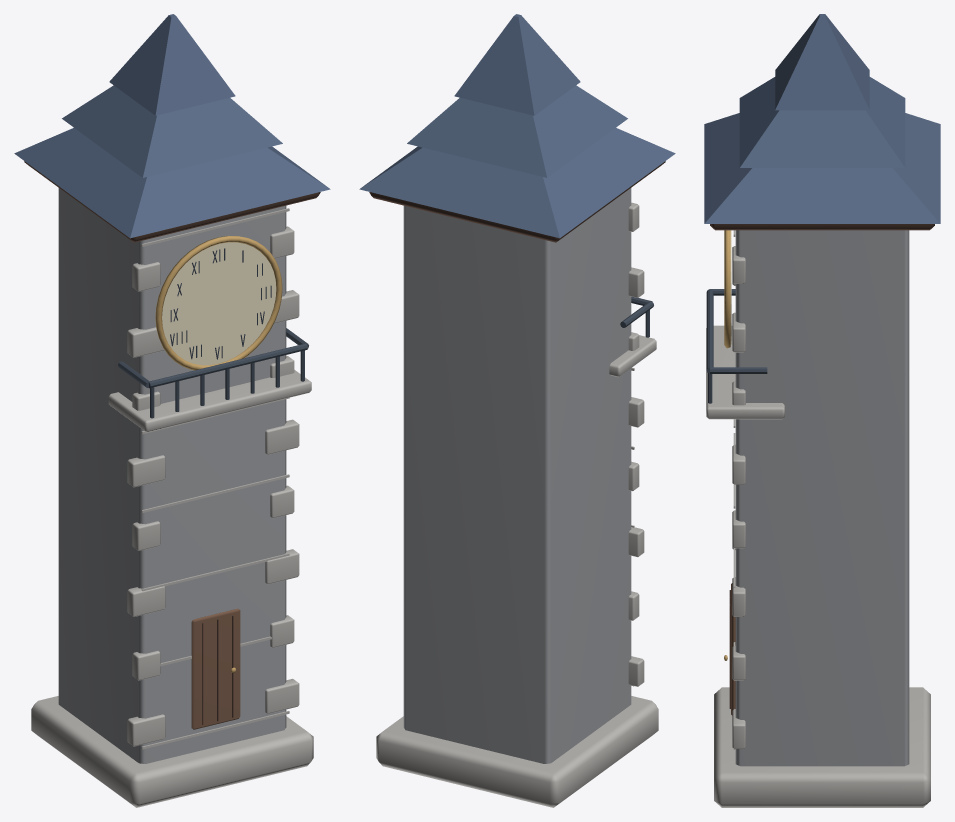
Rendered from clock_tower.glb.
3 renders of one model, left to right at view 1: azimuth 30°, elevation 25°; view 2: azimuth 150°, elevation 25°; view 3: azimuth 270°, elevation 25°, orthographic. The views are drawn at different scales.
Visible parts, largest first — view 1: Slender stone tower, Pointed slate roof tier, Stone footing, Pointed slate roof tier.001, Ivory clock dial, Pointed slate roof tier.002, Lower arched door, Balcony floor, Aged brass clock bezel, Slate roof cornice, Balcony front rail, Worn corner quoin.004 (+13 smaller); view 2: Slender stone tower, Pointed slate roof tier, Stone footing, Pointed slate roof tier.001, Pointed slate roof tier.002, Slate roof cornice, Balcony floor; view 3: Slender stone tower, Pointed slate roof tier, Stone footing, Pointed slate roof tier.001, Pointed slate roof tier.002, Balcony floor, Slate roof cornice, Aged brass clock bezel, Balcony front rail, Worn corner quoin.012, Worn corner quoin.014, Worn corner quoin.008 (+2 smaller).
Boxes of the visible parts, left/top/right/bottom form: Slender stone tower: left=58, top=188, right=286, bottom=763; Pointed slate roof tier: left=14, top=128, right=330, bottom=238; Stone footing: left=31, top=696, right=313, bottom=807; Pointed slate roof tier.001: left=62, top=85, right=282, bottom=177; Ivory clock dial: left=162, top=242, right=276, bottom=365; Pointed slate roof tier.002: left=109, top=14, right=235, bottom=115; Lower arched door: left=191, top=608, right=240, bottom=729; Balcony floor: left=108, top=370, right=311, bottom=432; Aged brass clock bezel: left=155, top=236, right=282, bottom=370; Slate roof cornice: left=24, top=161, right=320, bottom=242; Balcony front rail: left=149, top=343, right=307, bottom=388; Worn corner quoin.004: left=127, top=455, right=165, bottom=487; Slender stone tower: left=403, top=188, right=631, bottom=763; Pointed slate roof tier: left=359, top=128, right=675, bottom=238; Stone footing: left=376, top=696, right=658, bottom=807; Pointed slate roof tier.001: left=407, top=85, right=627, bottom=177; Pointed slate roof tier.002: left=454, top=14, right=580, bottom=115; Slate roof cornice: left=369, top=161, right=665, bottom=242; Balcony floor: left=609, top=335, right=656, bottom=377; Slender stone tower: left=735, top=230, right=909, bottom=766; Pointed slate roof tier: left=704, top=113, right=940, bottom=223; Stone footing: left=714, top=687, right=930, bottom=807; Pointed slate roof tier.001: left=739, top=77, right=905, bottom=167; Pointed slate roof tier.002: left=775, top=14, right=869, bottom=110; Balcony floor: left=706, top=325, right=784, bottom=419; Slate roof cornice: left=710, top=224, right=934, bottom=230; Aged brass clock bezel: left=724, top=230, right=730, bottom=348; Balcony front rail: left=706, top=289, right=713, bottom=373; Worn corner quoin.012: left=732, top=444, right=745, bottom=484; Worn corner quoin.014: left=732, top=312, right=745, bottom=352; Worn corner quoin.008: left=732, top=709, right=745, bottom=748.
Bounding box in the file's own units: 1.2 × 4.2 × 1.2.
